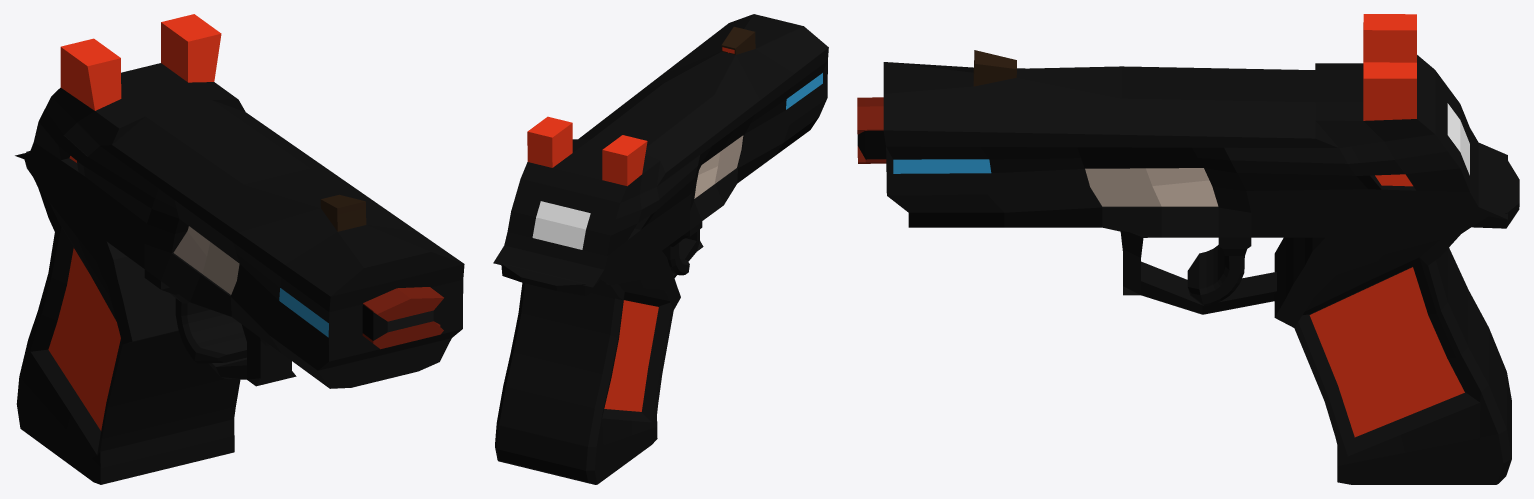
Rendered from Gun.fbx.
3 renders of one model, left to right at view 1: azimuth 30°, elevation 25°; view 2: azimuth 150°, elevation 25°; view 3: azimuth 270°, elevation 25°, orthographic. The views are drawn at different scales.
Visible parts, largest first — view 1: Cube; view 2: Cube; view 3: Cube.
Part boxes in pixels (bbox=[...]): Cube: bbox=[15, 14, 464, 484]; Cube: bbox=[493, 14, 828, 484]; Cube: bbox=[857, 14, 1519, 484].
Size of the model in its own units: 224 by 587 by 868.
